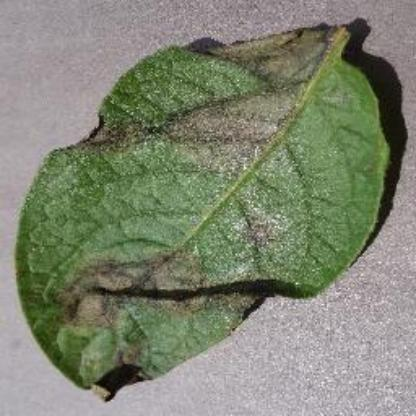Late-Blight: (12, 15, 402, 399)
